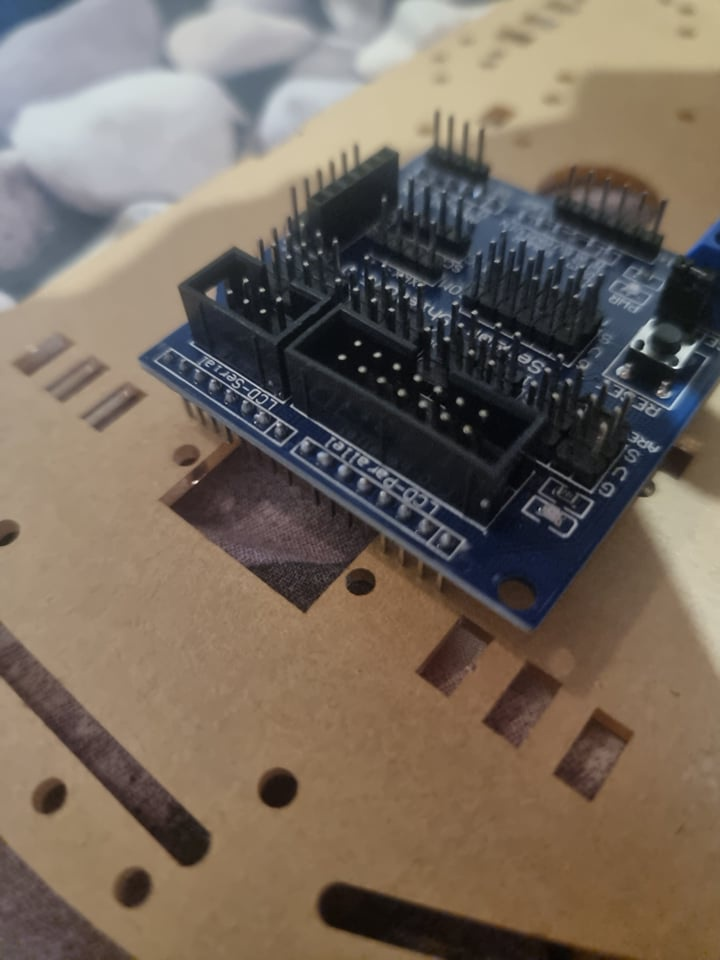5V EXPANSION: (139, 110, 720, 634)
